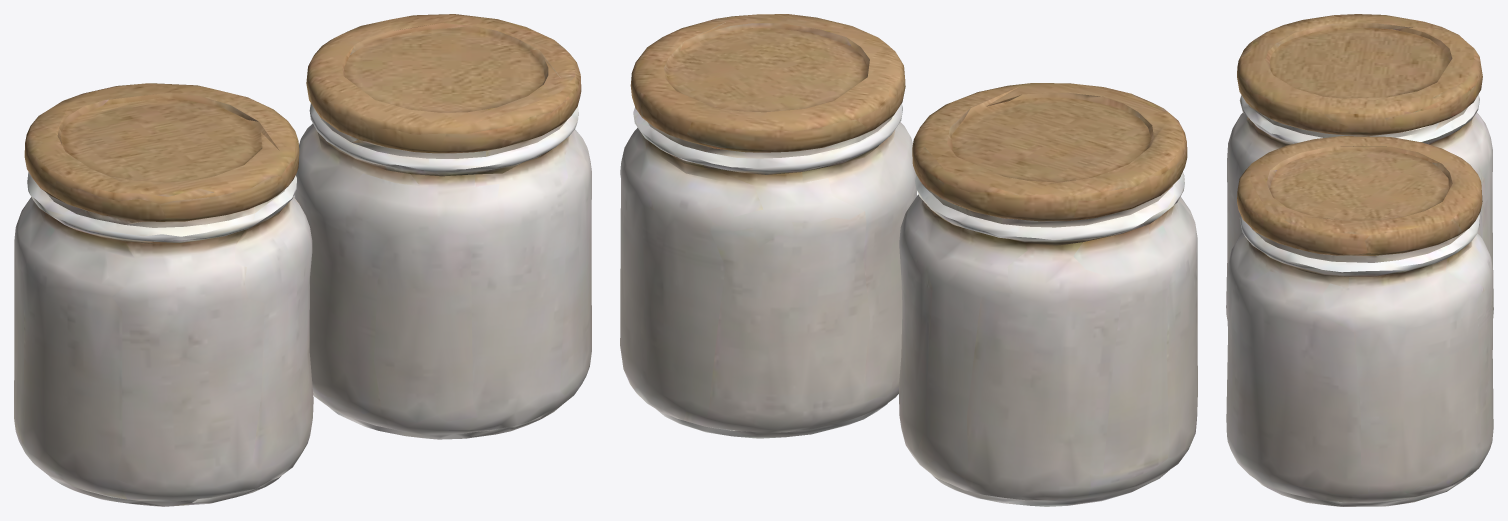
File: jars.glb
3 views of the same model, side by side, from view 1: azimuth 30°, elevation 25°; view 2: azimuth 150°, elevation 25°; view 3: azimuth 270°, elevation 25° (orthographic). The views are drawn at different scales.
Visible parts, largest first — view 1: jars; view 2: jars; view 3: jars.
Boxes of the visible parts, x1,y1,x2,y2 form: jars: (14,14,591,506); jars: (620,14,1197,506); jars: (1226,14,1493,506).
Bounding box in the file's own units: 0.446 × 0.2499 × 0.2164.
Materials: 1 (1 with a texture image).
